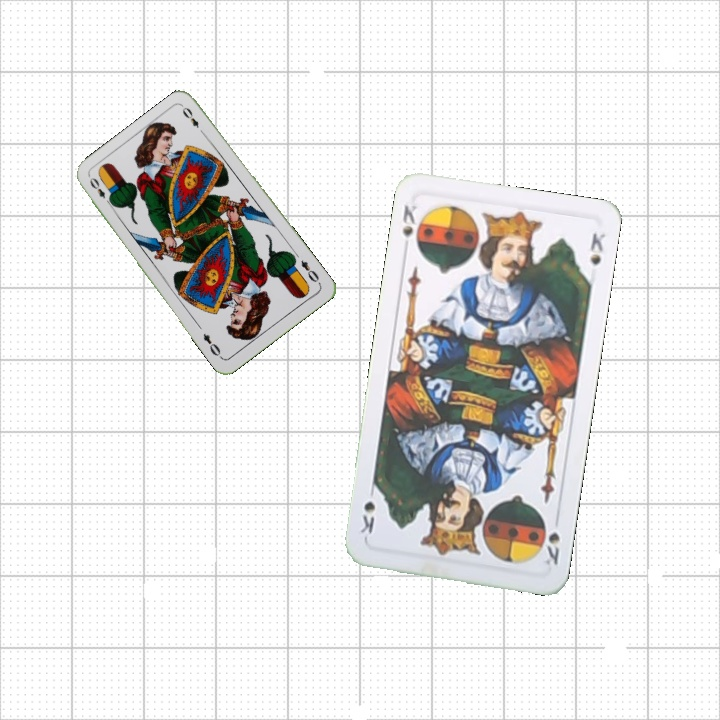EO: (85, 173, 115, 209), (297, 256, 323, 287)
SK: (398, 200, 426, 255), (539, 528, 563, 568)
